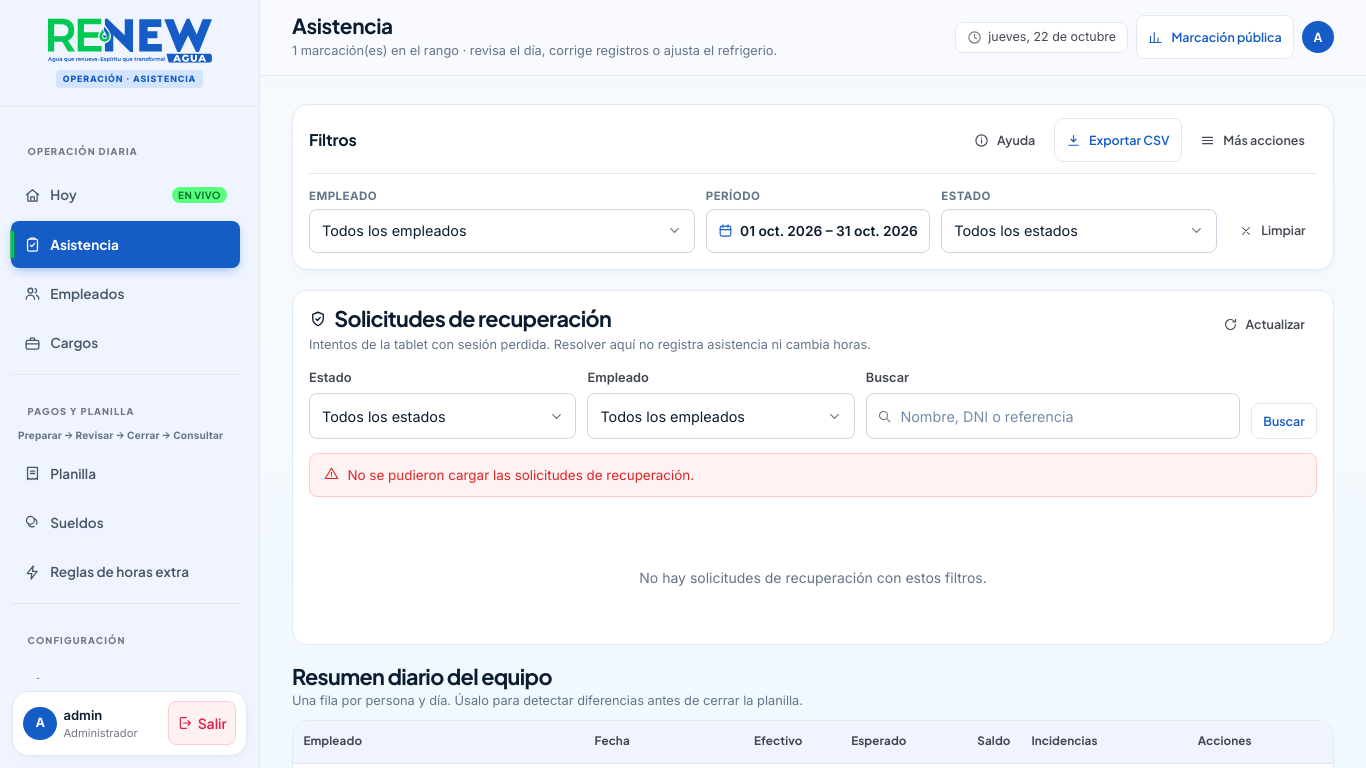
Test: Admin — barra superior de asistencia › Limpiar deja las fechas vacías en lugar de volver al mes actual
The width and height of the screenshot is (1366, 768).
What coordinates should you click on to do the following:
click the button "01 oct. 2026 – 31 oct. 2026"
I would click on:
 (818, 231)
Its box is [706,209,930,253].
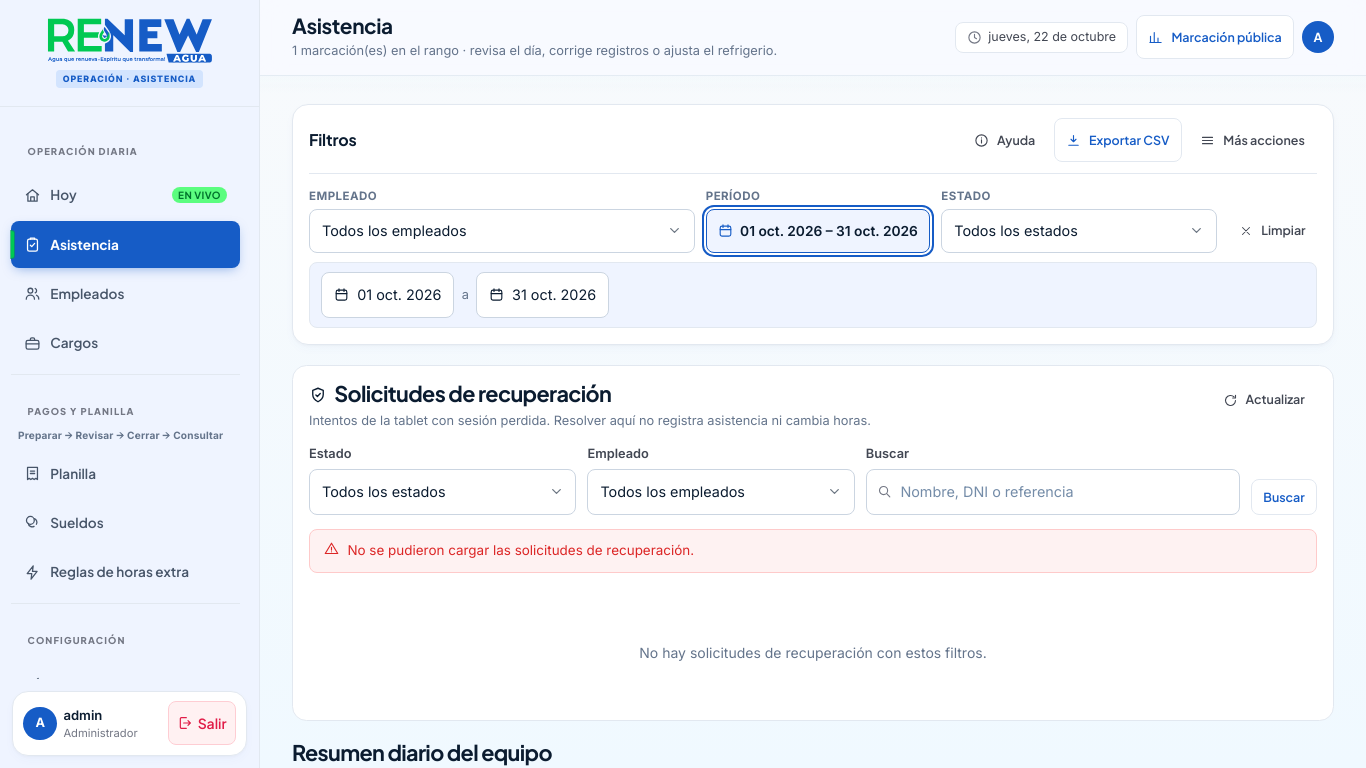
Result: the button with aria-label "Fecha desde" shows "01" at [321,272,454,318]
What coordinates should you click on to do the following:
click the button "01 oct. 2026 – 31 oct. 2026"
I would click on:
 (818, 231)
Its box is [706,209,930,253].
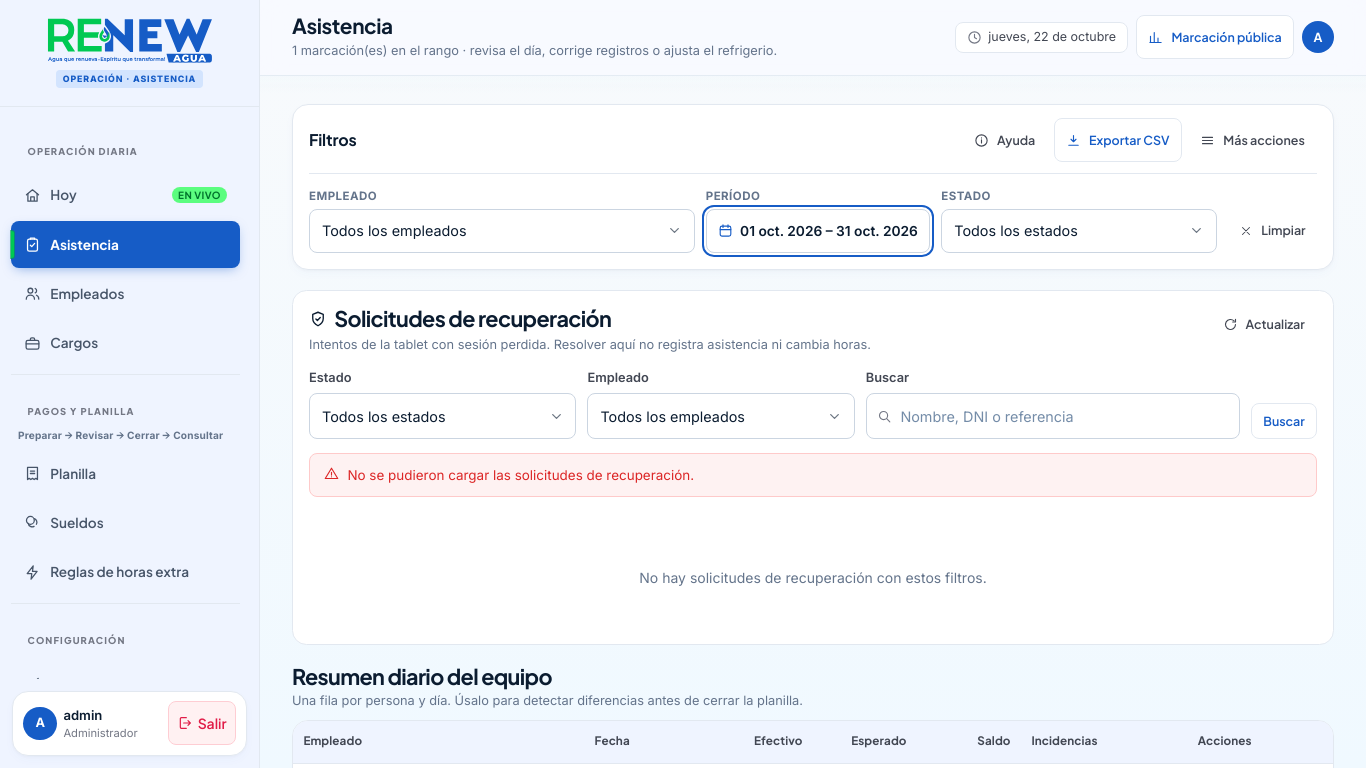
What coordinates should you click on to do the following:
click the button "Limpiar"
I would click on:
 (1272, 231)
Its box is [1228,209,1317,253].
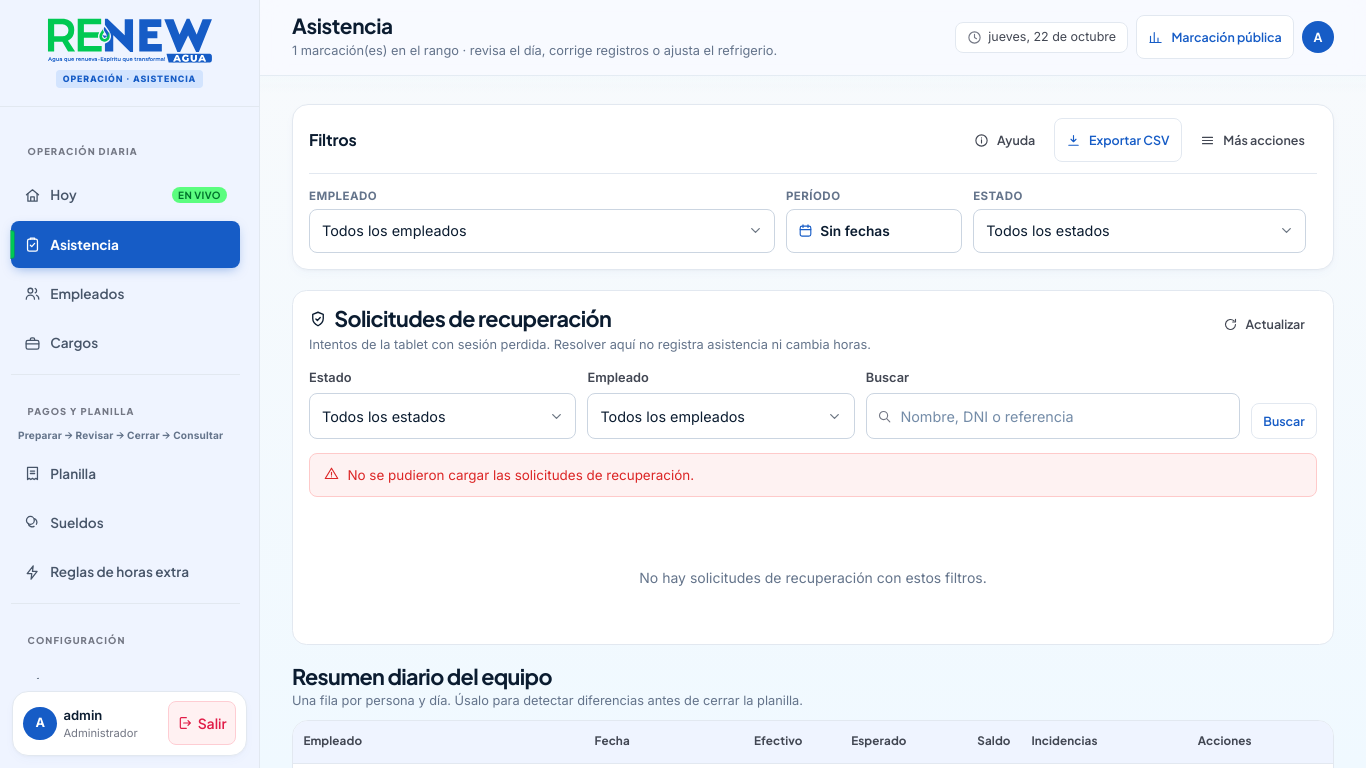
What coordinates should you click on to do the following:
click the button "Sin fechas"
I would click on:
 (874, 231)
Its box is [786,209,962,253].
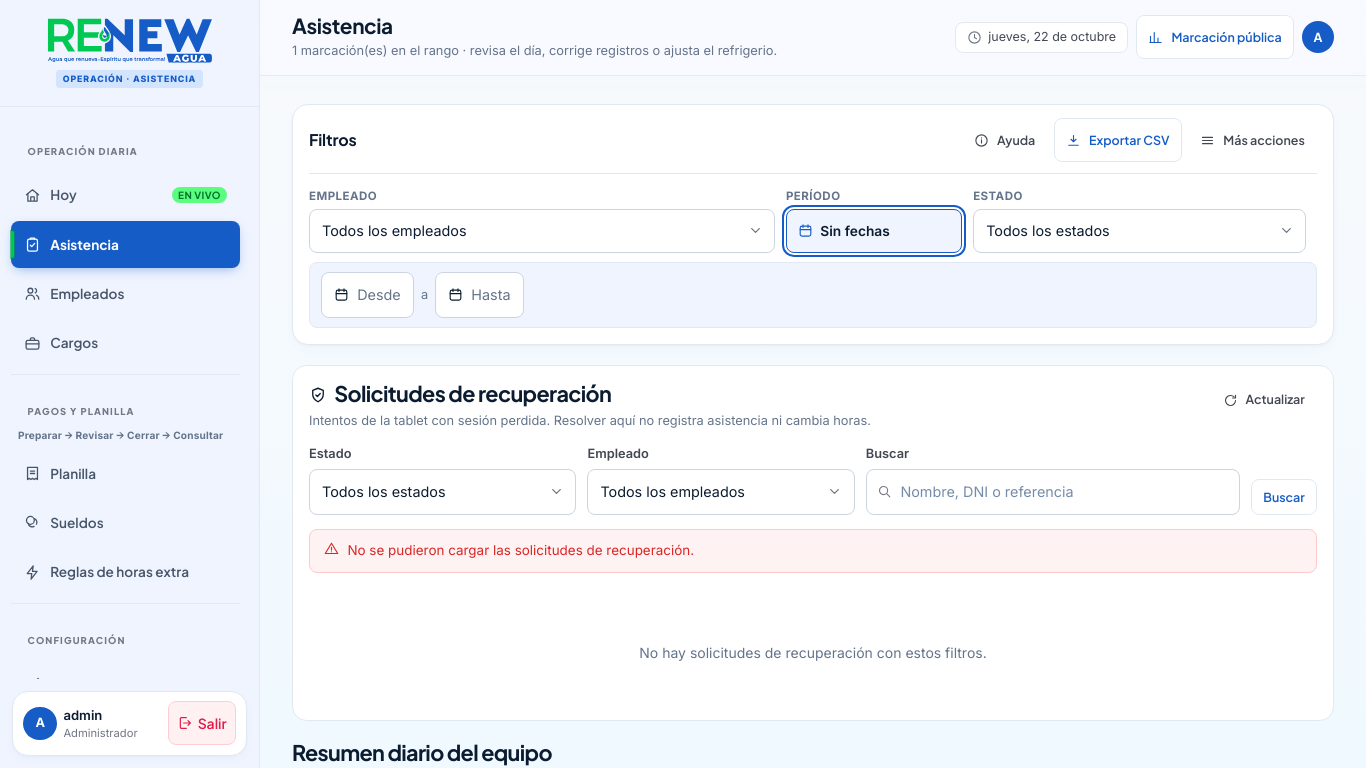
Result: the button with aria-label "Fecha desde" reads "Desde" at [321,272,414,318]
Result: the button with aria-label "Fecha hasta" reads "Hasta" at [435,272,524,318]
